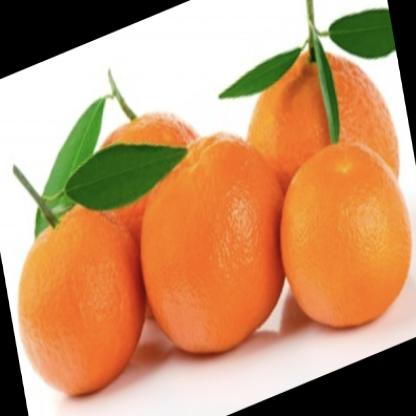orange: (139, 122, 284, 363), (244, 14, 404, 182), (277, 138, 412, 337), (14, 203, 146, 394)
